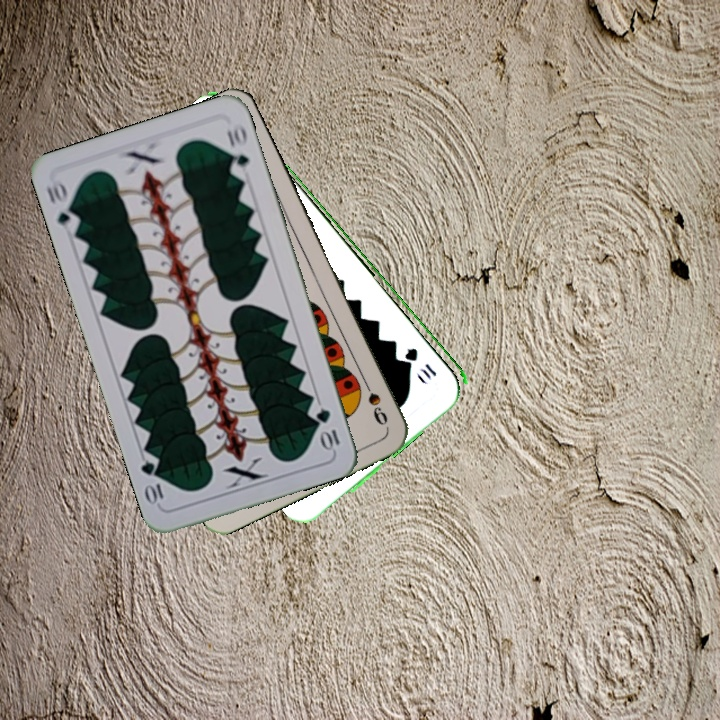G10: (42, 175, 82, 232), (402, 343, 440, 382), (312, 404, 342, 453)
S9: (358, 373, 390, 429)
